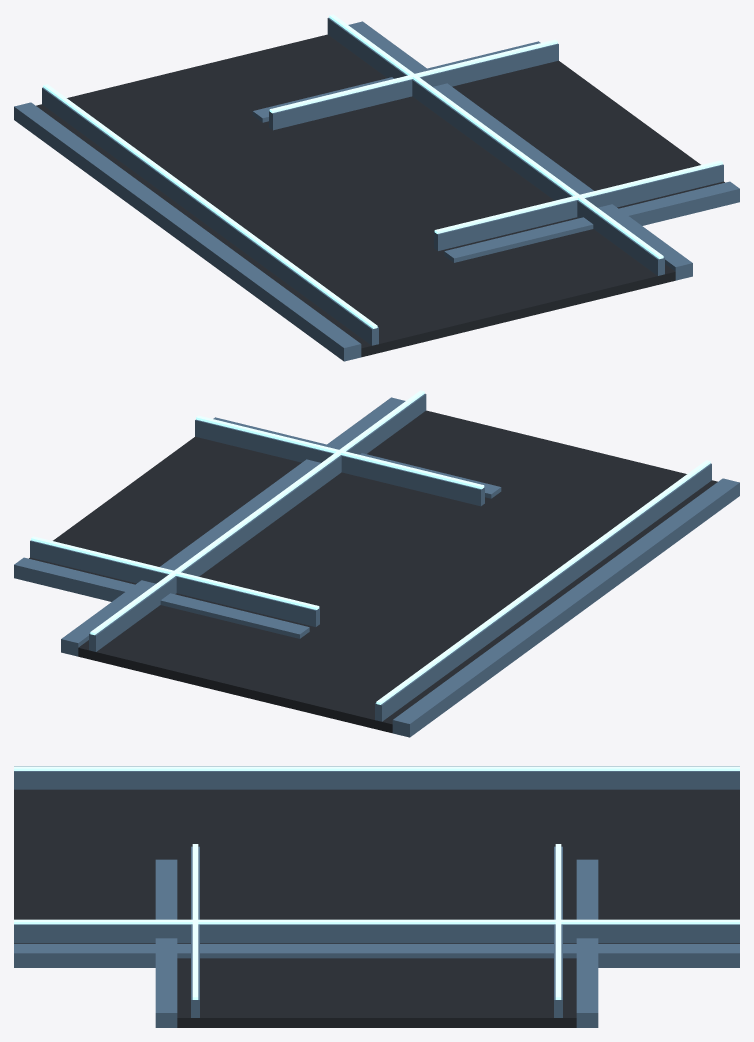
The model's file is road_future_tee_lod1.glb.
3 renders of one model, top to bottom at view 1: azimuth 30°, elevation 25°; view 2: azimuth 150°, elevation 25°; view 3: azimuth 270°, elevation 25°, orthographic. The views are drawn at different scales.
Parts seen in each view (by area): view 1: body; view 2: body; view 3: body.
Part boxes in pixels (box(x1,y1,x2,y2)): body: box(14, 14, 739, 361); body: box(14, 390, 739, 737); body: box(14, 766, 739, 1027).
Size of the model in its own units: 6.44 by 0.37 by 8.
